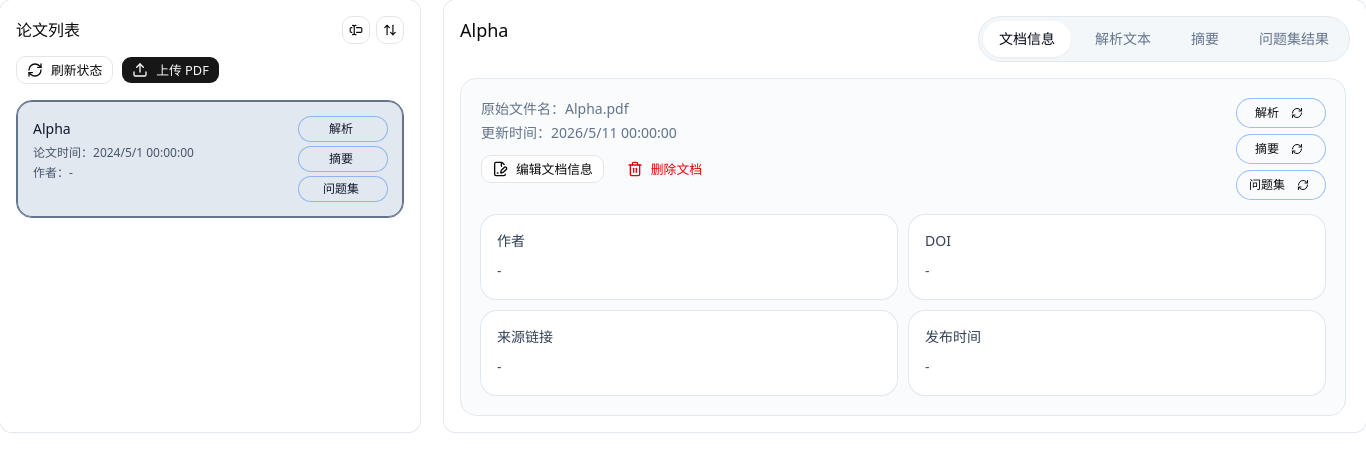
Test: PaperWorkbench › 展示问题集阶段和结果标签页
The image size is (1366, 450).
Expected: the text "问题集" below "论文列表" is shown, [323,180,359,197]
Click the button "问题集结果" at {"x": 1294, "y": 39}, box [1243,21,1345,57]
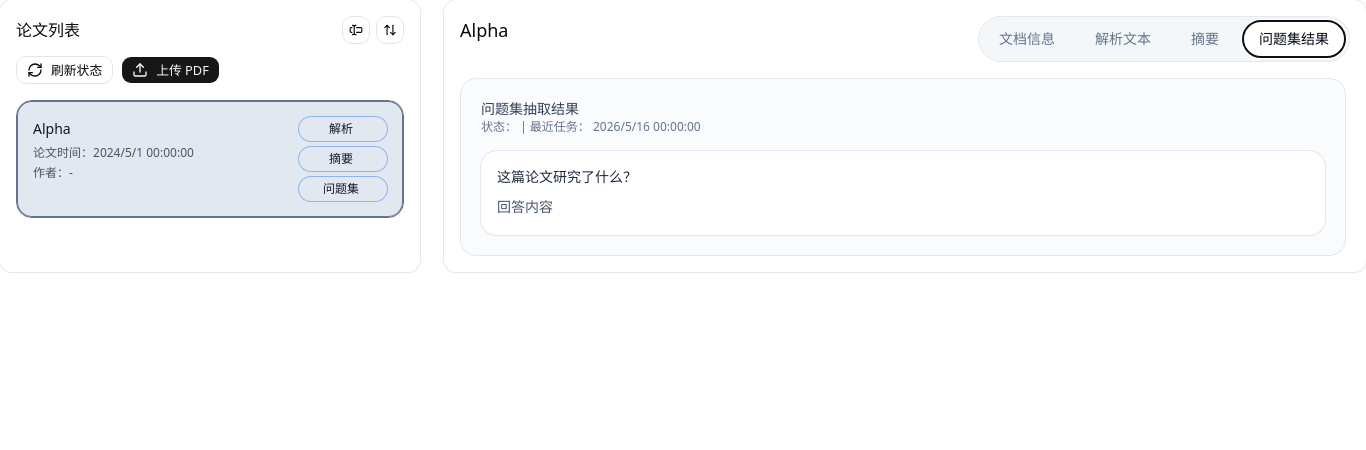
Expected: the heading "这篇论文研究了什么？" is shown, [497,167,637,186]
Expected: the text "回答内容" is shown, [497,197,553,216]
